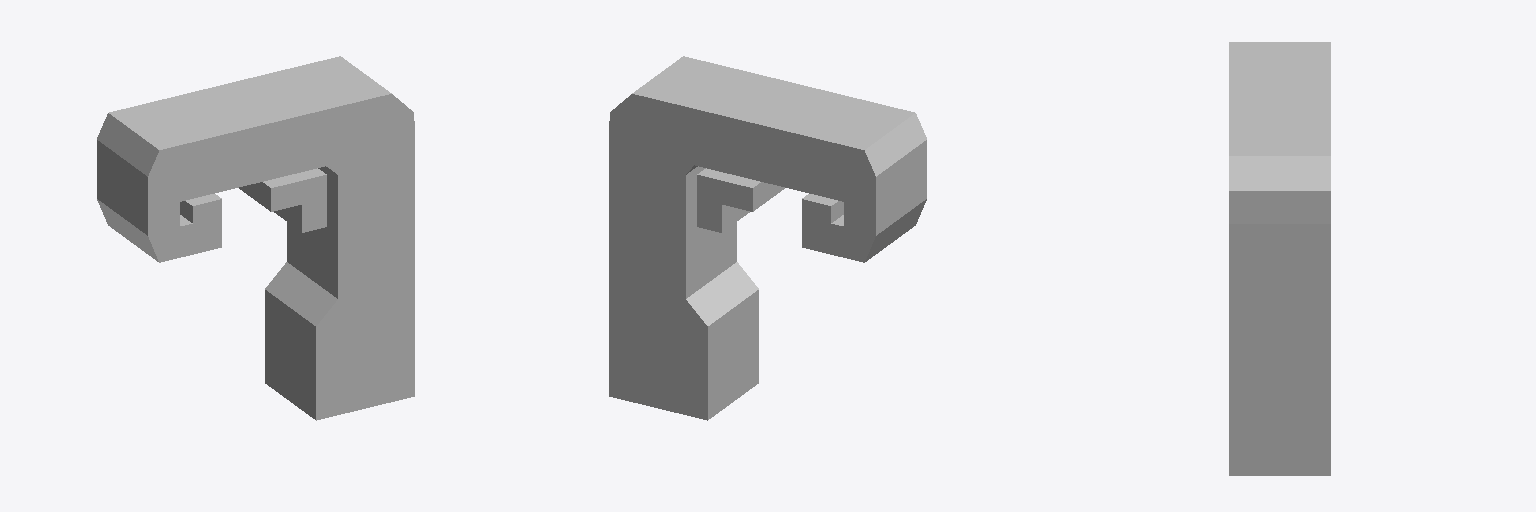
Rendered from 1-gate.obj.
3 renders of one model, left to right at view 1: azimuth 30°, elevation 25°; view 2: azimuth 150°, elevation 25°; view 3: azimuth 270°, elevation 25°, orthographic.
Bounding box in the file's own units: 2.05 × 2.26 × 0.6831.